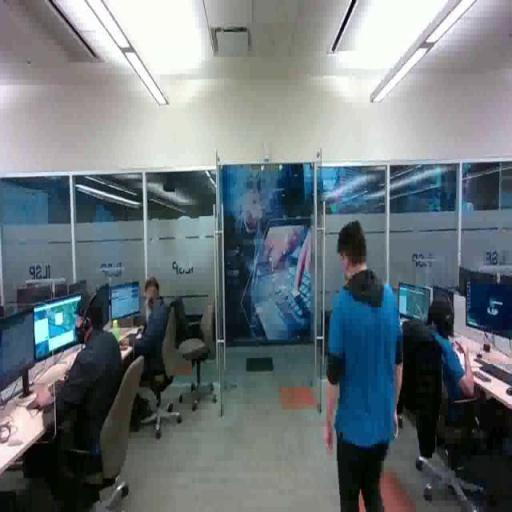person: (326, 218, 404, 512), (30, 288, 128, 508), (412, 299, 512, 465), (118, 274, 199, 423)
